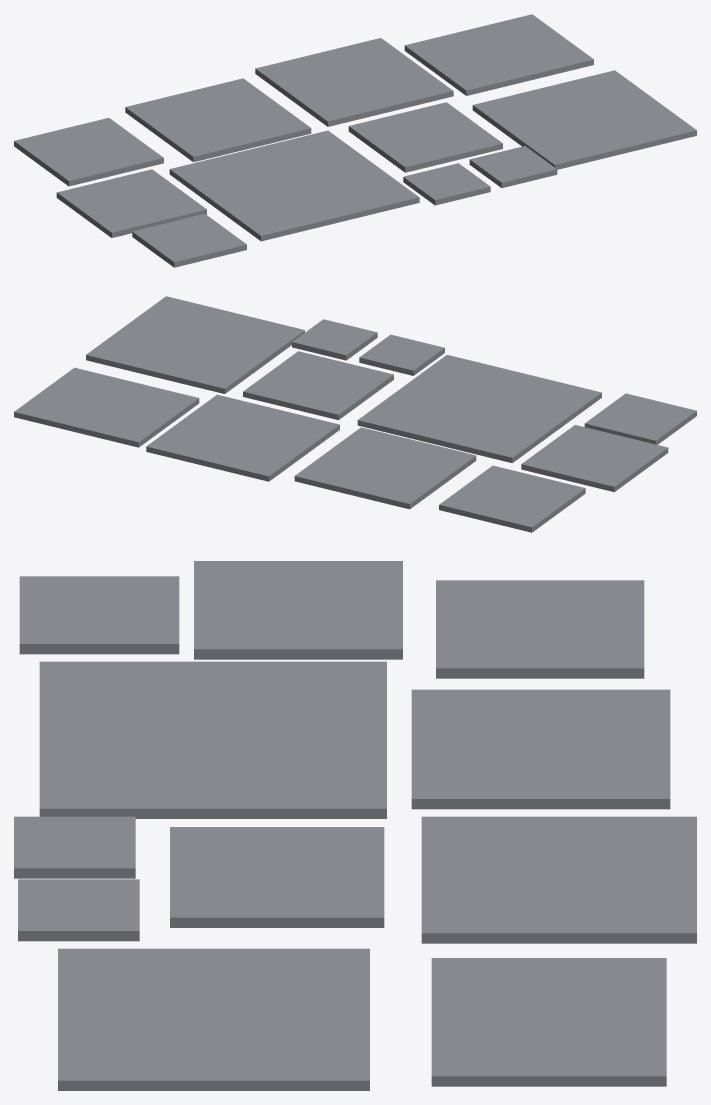
The model's file is road.fbx.
3 views of the same model, one above another, from view 1: azimuth 30°, elevation 25°; view 2: azimuth 150°, elevation 25°; view 3: azimuth 270°, elevation 25° (orthographic). The views are drawn at different scales.
Visible parts, largest first — view 1: road; view 2: road; view 3: road.
Part boxes in pixels (x1,y1,x2,y2): road: [14, 14, 696, 267]; road: [14, 296, 696, 532]; road: [14, 561, 696, 1090].
Size of the model in its own units: 3.61 by 0.0686 by 2.05.
1 material, 1 textured.
